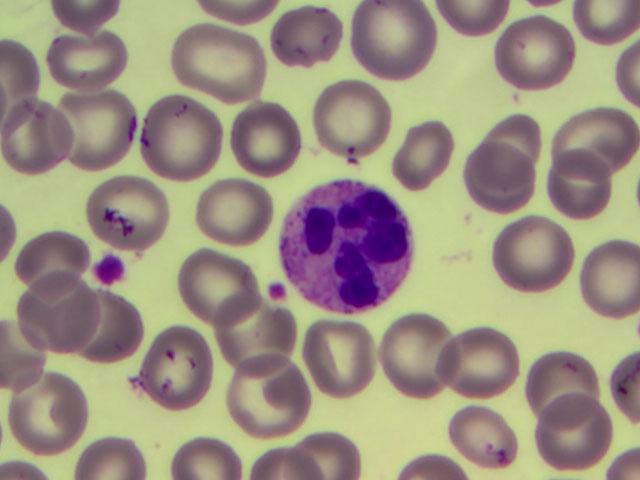Platelets: (93, 255, 127, 283), (269, 281, 286, 302)
RBC: (168, 24, 267, 103), (11, 367, 88, 456), (212, 304, 304, 378), (55, 88, 134, 172), (381, 311, 455, 400), (493, 213, 574, 294), (351, 1, 435, 79), (228, 360, 309, 440), (12, 278, 103, 349), (141, 98, 217, 183), (552, 107, 639, 181), (314, 81, 392, 162), (182, 249, 265, 325), (439, 325, 522, 401), (142, 328, 214, 411), (193, 178, 276, 248), (527, 350, 598, 429), (464, 137, 536, 213), (303, 321, 373, 398), (495, 20, 574, 88), (393, 118, 458, 196), (93, 178, 170, 243), (533, 401, 610, 465), (5, 103, 73, 174), (236, 102, 301, 176), (271, 7, 346, 69), (449, 404, 522, 467), (84, 292, 146, 366), (579, 241, 640, 316), (44, 29, 124, 84), (551, 151, 614, 220), (20, 234, 85, 300), (481, 111, 543, 178), (1, 40, 39, 143), (290, 432, 366, 480), (168, 437, 244, 480), (1, 318, 43, 391), (573, 1, 636, 47), (74, 443, 147, 480), (53, 1, 117, 39), (441, 1, 508, 35), (190, 1, 279, 24), (399, 451, 469, 480), (614, 350, 640, 423), (617, 44, 640, 105), (1, 456, 45, 480), (612, 453, 640, 480)
WBC: (279, 182, 412, 319)
